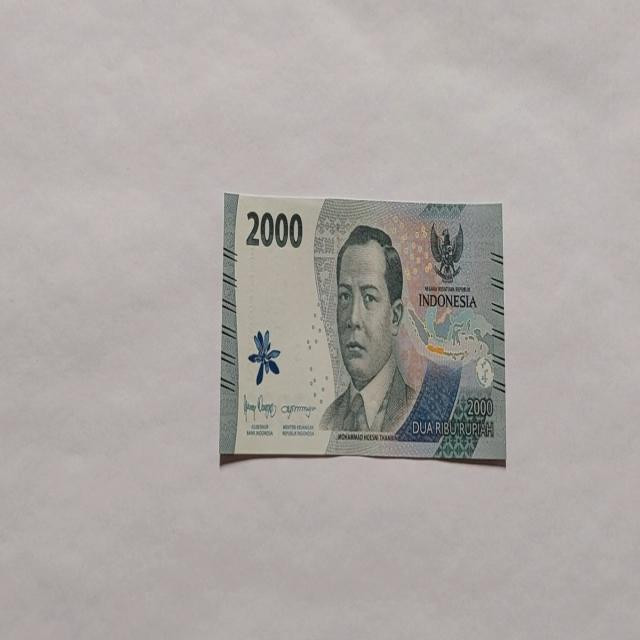dua ribu rupiah: (219, 191, 506, 465), (318, 223, 418, 437)
